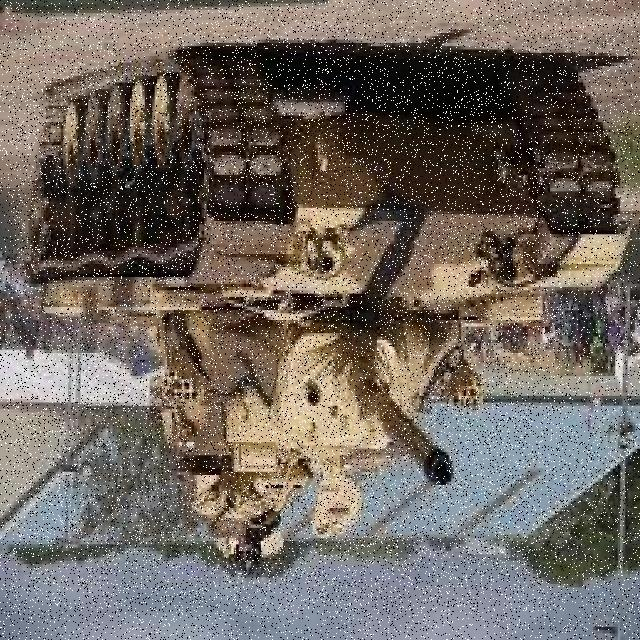MIL_MBT: (14, 68, 566, 612)
